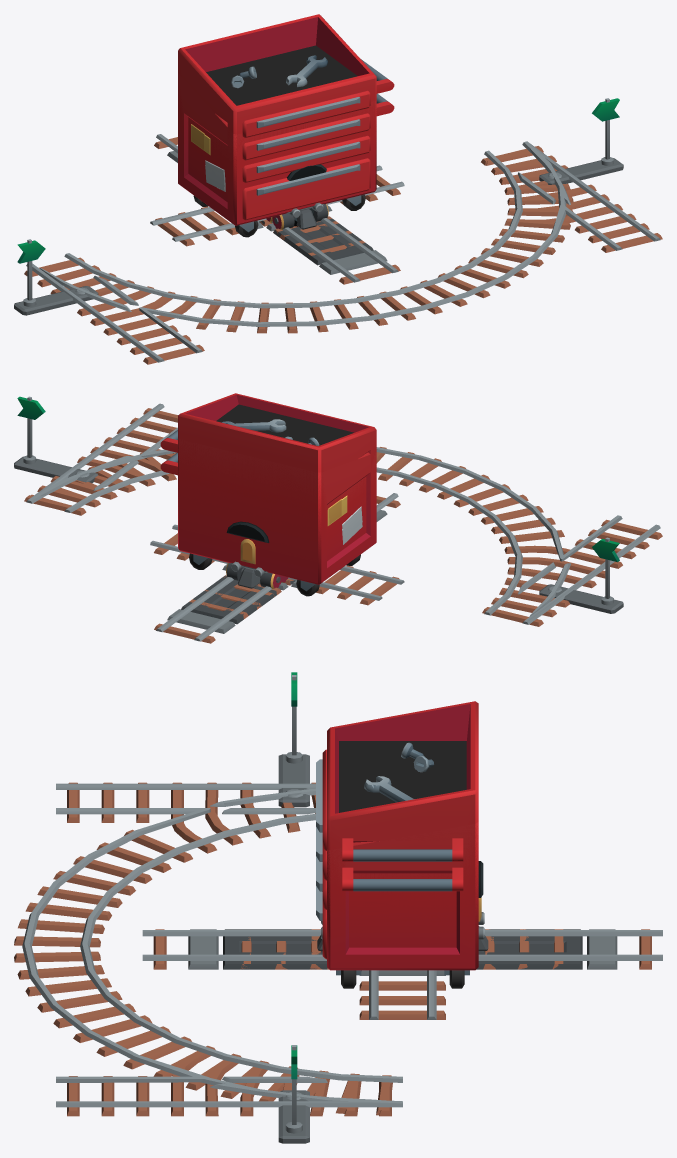
File: bits.glb
3 renders of one model, top to bottom at view 1: azimuth 30°, elevation 25°; view 2: azimuth 150°, elevation 25°; view 3: azimuth 270°, elevation 25°, orthographic. The views are drawn at different scales.
Parts seen in each view (by area): view 1: toolcart_tall, toolcart, tracks_split_left, tracks_split_right, tracks_curve, tracks_straight_station, tracks_crossing, train_wagon, tracks_split_left_arrow, tracks_split_right_arrow; view 2: toolcart_tall, toolcart, tracks_split_left, tracks_split_right, tracks_straight_station, tracks_crossing, tracks_curve, train_wagon, tracks_split_right_arrow, tracks_split_left_arrow; view 3: toolcart_tall, toolcart, tracks_split_left, tracks_split_right, tracks_straight_station, tracks_curve, tracks_crossing, train_wagon.
Boxes of the visible parts, box(x1,y1,x2,y2) form: toolcart_tall: box(178, 14, 394, 223); toolcart: box(178, 73, 394, 237); tracks_split_left: box(14, 253, 422, 364); tracks_split_right: box(399, 141, 662, 314); tracks_curve: box(398, 141, 573, 313); tracks_straight_station: box(154, 134, 400, 284); tracks_crossing: box(150, 165, 404, 255); train_wagon: box(272, 164, 328, 229); tracks_split_left_arrow: box(17, 239, 45, 306); tracks_split_right_arrow: box(592, 98, 619, 165); toolcart_tall: box(160, 393, 376, 583); toolcart: box(160, 438, 376, 596); tracks_split_left: box(397, 455, 662, 626); tracks_split_right: box(14, 403, 419, 512); tracks_straight_station: box(154, 493, 400, 643); tracks_crossing: box(150, 524, 404, 618); tracks_curve: box(28, 447, 420, 515); train_wagon: box(226, 521, 281, 588); tracks_split_right_arrow: box(17, 396, 45, 464); tracks_split_left_arrow: box(592, 537, 619, 605); toolcart_tall: box(316, 701, 478, 968); toolcart: box(316, 822, 478, 988); tracks_split_left: box(14, 754, 315, 947); tracks_split_right: box(14, 943, 402, 1143); tracks_straight_station: box(142, 929, 662, 969); tracks_curve: box(16, 943, 402, 1115); tracks_crossing: box(229, 929, 576, 1019); train_wagon: box(317, 861, 488, 950).
Size of the model in its own units: 5.25 by 1.31 by 3.74.
Materials: 3 (3 with a texture image).
